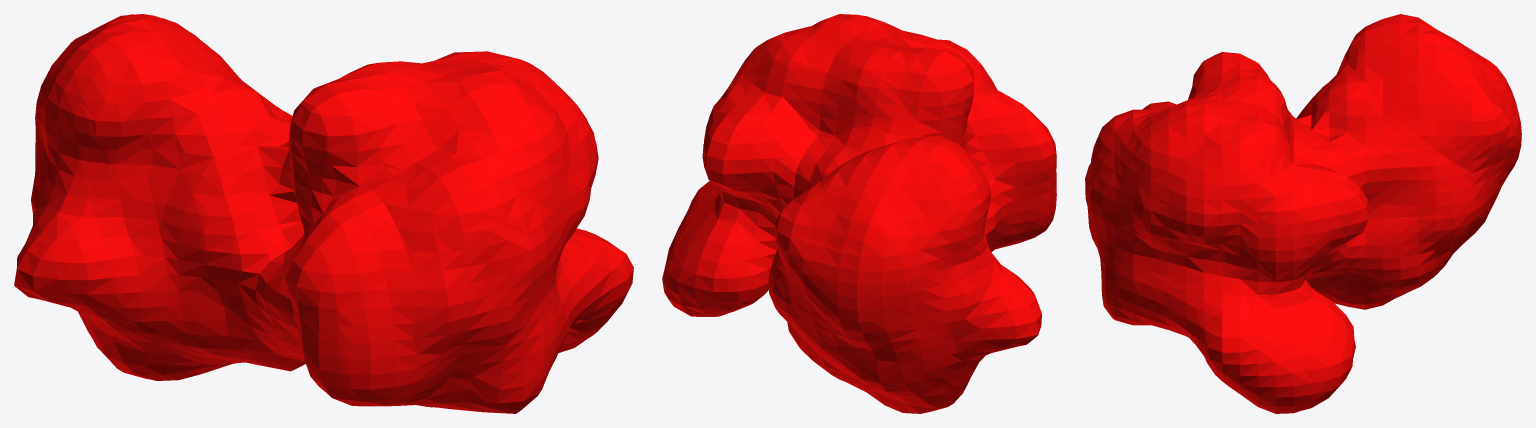
The model's file is ldhA_coarse.dae.
The picture shows the model from 3 angles, left to right: view 1: azimuth 30°, elevation 25°; view 2: azimuth 150°, elevation 25°; view 3: azimuth 270°, elevation 25°; orthographic projection. The views are drawn at different scales.
Visible parts, largest first — view 1: ldhA; view 2: ldhA; view 3: ldhA.
Part boxes in pixels (left/top/right/bottom): ldhA: left=14, top=14, right=633, bottom=413; ldhA: left=662, top=14, right=1056, bottom=413; ldhA: left=1085, top=14, right=1521, bottom=413.
Size of the model in its own units: 67.26 by 43.34 by 64.49.
